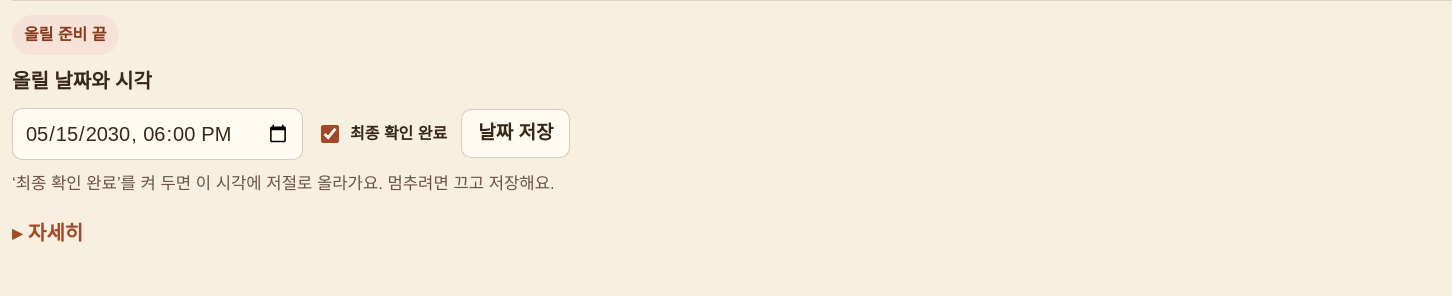
Scenario: clears the planned time and final-review mark together
Clear the field labelled "올릴 날짜와 시각" at (158, 134), box [12,108,303,160]
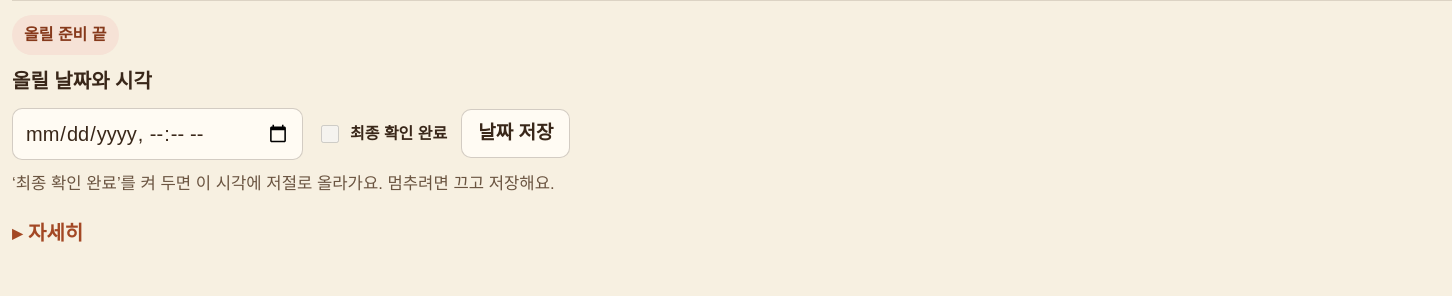
Expected: the checkbox labelled "최종 확인 완료" is not checked, [321,110,339,158]
Click the button "날짜 저장" at (516, 134), box [461,109,570,158]
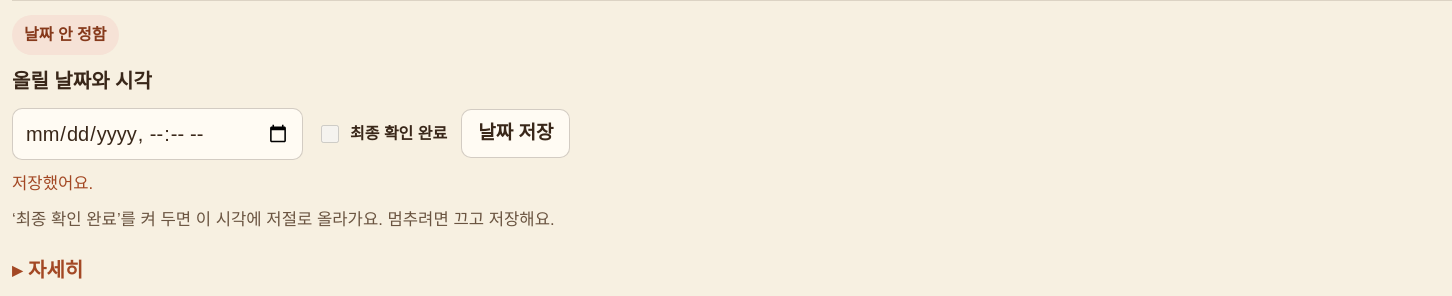
Expected: the text "날짜 안 정함" is shown, [12,15,118,55]
